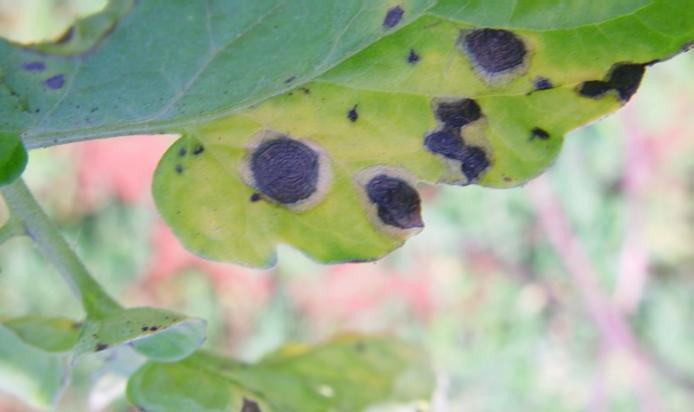Tomato Early blight leaf: (0, 0, 694, 270), (132, 351, 287, 412)
